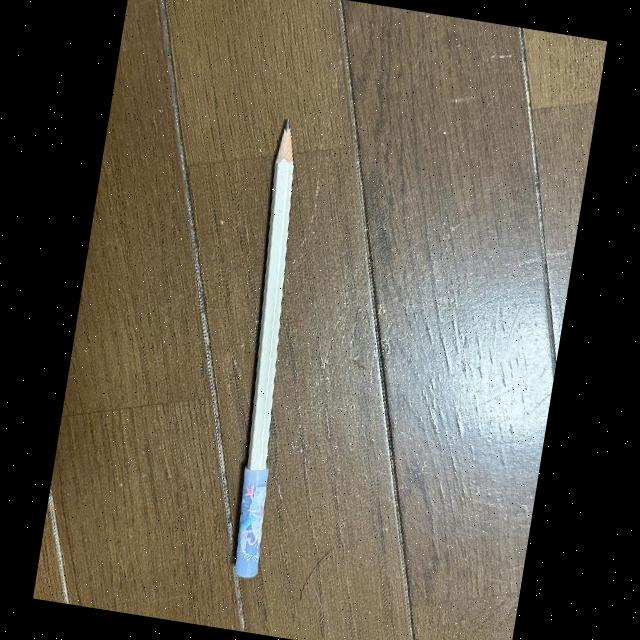pencil: (205, 114, 338, 590)
